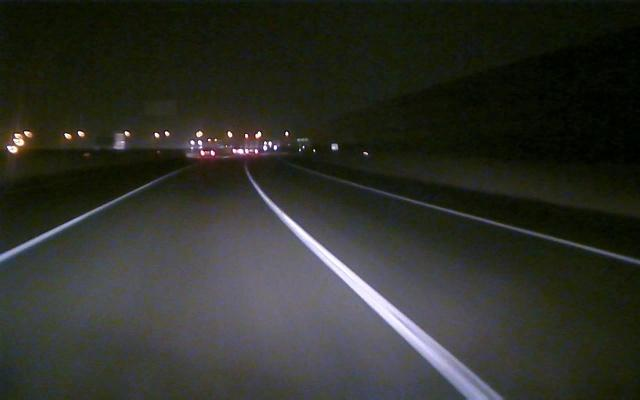lane: (251, 181, 500, 395), (332, 176, 639, 267), (1, 178, 162, 261)
